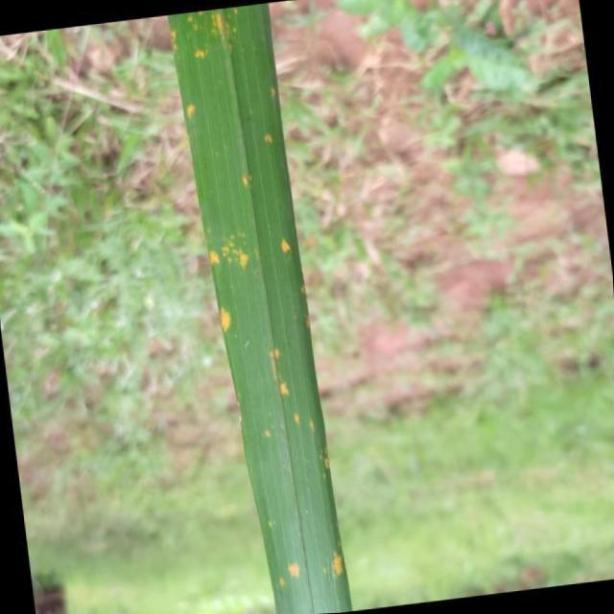Kalium: (172, 0, 356, 614)
